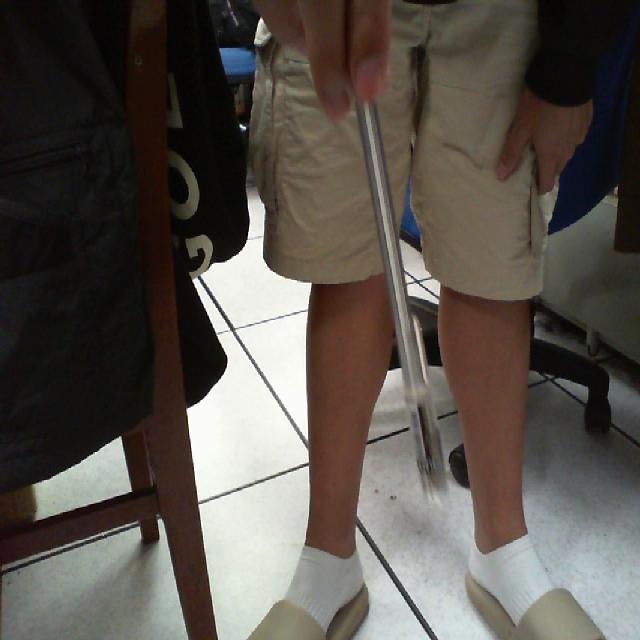Pen: (338, 33, 464, 542)
